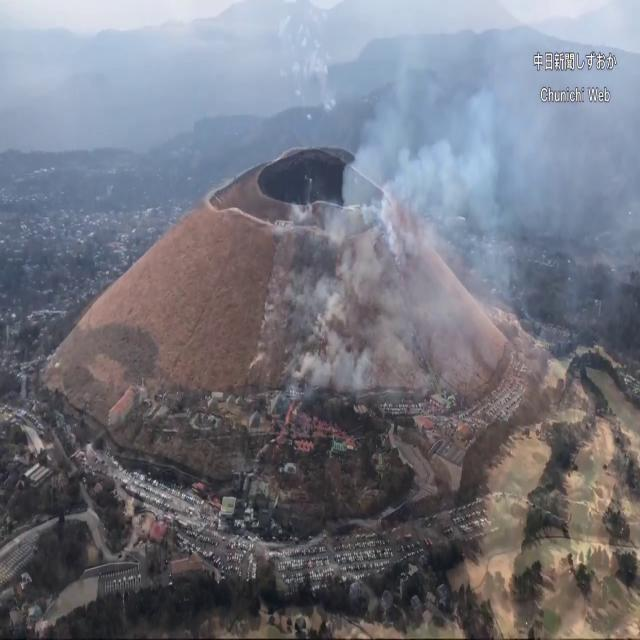Smoke: (277, 0, 640, 405)
